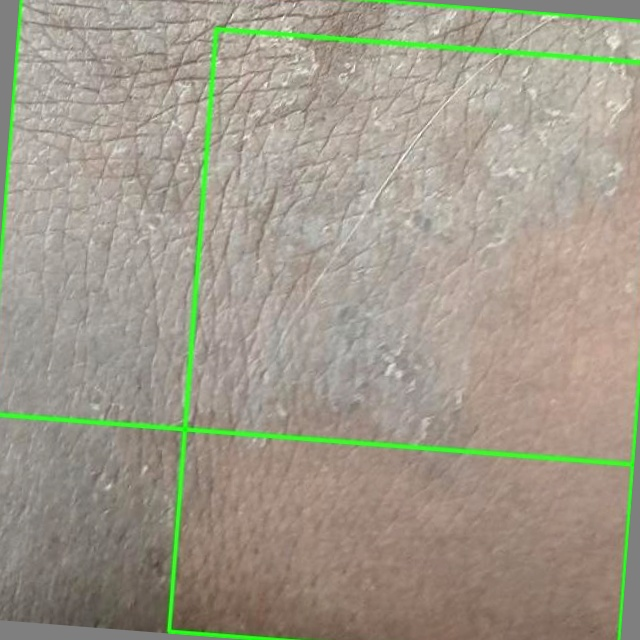Eczema: (0, 0, 639, 464), (168, 28, 639, 639)
